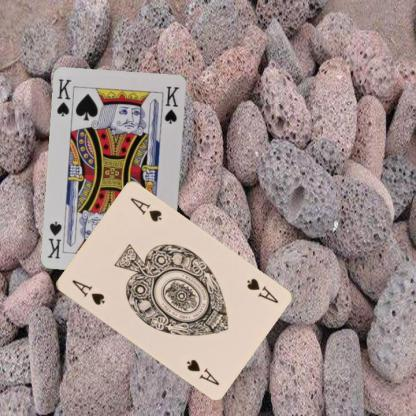As: (68, 277, 106, 307), (244, 276, 280, 305)
Ks: (54, 77, 73, 118)
